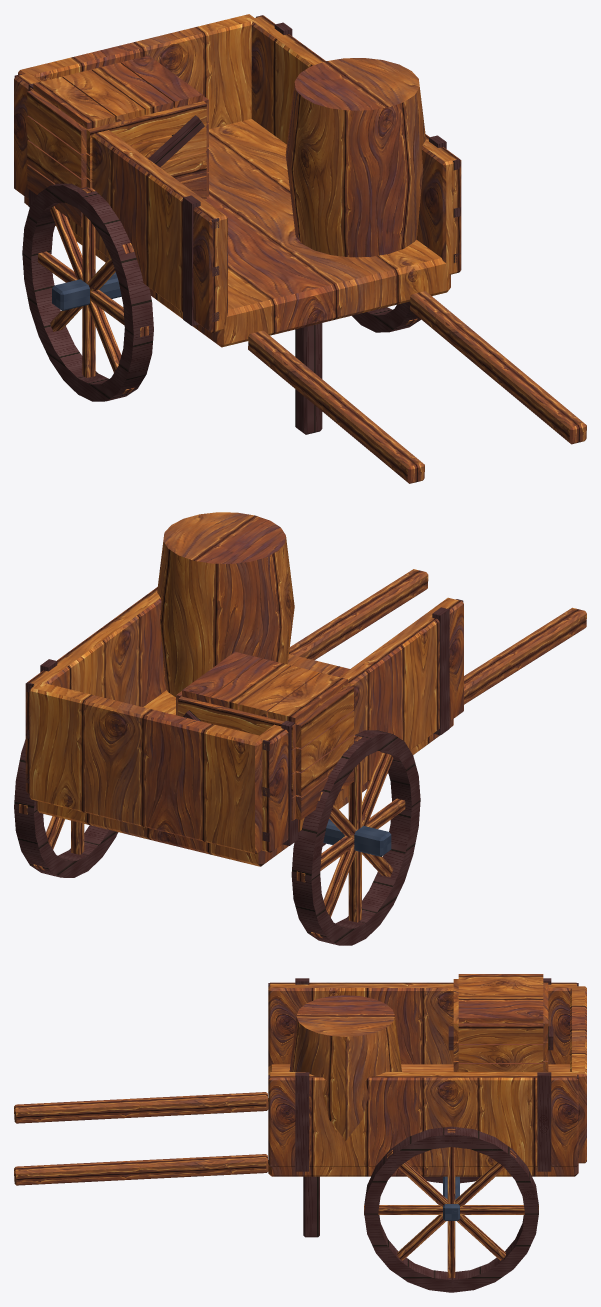
The model's file is Handcart.fbx.
The picture shows the model from 3 angles, top to bottom: view 1: azimuth 30°, elevation 25°; view 2: azimuth 150°, elevation 25°; view 3: azimuth 270°, elevation 25°; orthographic projection. The views are drawn at different scales.
Visible parts, largest first — view 1: Wagon bed.001, Cargo barrel, Wagon left side.001, Wagon wheel.004, Wagon right side.001, Wagon tail.001, Draw shaft.002, Draw shaft.003, Crate long side board.030, Cart resting prop, Crate lid board.004, Wheel spoke.017 (+16 smaller); view 2: Wagon tail.001, Cargo barrel, Wagon left side.001, Wagon wheel.004, Wagon right side.001, Wagon bed.001, Wagon wheel.005, Draw shaft.003, Draw shaft.002, Crate long side board.031, Crate lid board.004, Wheel spoke.019 (+13 smaller); view 3: Wagon right side.001, Wagon left side.001, Cargo barrel, Wagon wheel.005, Draw shaft.002, Draw shaft.003, Wagon bed.001, Wagon tail.001, Crate short side board.031, Crate short side board.029, Wagon side stake.006, Wagon side stake.007 (+11 smaller).
Part boxes in pixels (x1=…): Wagon bed.001: x1=24, y1=119, x2=450, y2=347; Cargo barrel: x1=285, y1=58, x2=425, y2=257; Wagon left side.001: x1=14, y1=72, x2=227, y2=332; Wagon wheel.004: x1=22, y1=183, x2=153, y2=401; Wagon right side.001: x1=250, y1=15, x2=461, y2=274; Wagon tail.001: x1=18, y1=14, x2=256, y2=128; Draw shaft.002: x1=248, y1=330, x2=424, y2=483; Draw shaft.003: x1=410, y1=291, x2=586, y2=444; Crate long side board.030: x1=84, y1=101, x2=206, y2=154; Cart resting prop: x1=295, y1=323, x2=322, y2=434; Crate lid board.004: x1=33, y1=77, x2=115, y2=129; Wheel spoke.017: x1=50, y1=206, x2=134, y2=393; Wagon tail.001: x1=29, y1=682, x2=262, y2=854; Cargo barrel: x1=157, y1=512, x2=294, y2=696; Wagon left side.001: x1=257, y1=597, x2=463, y2=852; Wagon wheel.004: x1=291, y1=730, x2=420, y2=945; Wagon right side.001: x1=25, y1=587, x2=166, y2=793; Wagon bed.001: x1=36, y1=654, x2=453, y2=866; Wagon wheel.005: x1=14, y1=739, x2=118, y2=877; Draw shaft.003: x1=289, y1=569, x2=428, y2=660; Draw shaft.002: x1=464, y1=607, x2=586, y2=704; Crate long side board.031: x1=178, y1=696, x2=298, y2=749; Crate lid board.004: x1=268, y1=672, x2=347, y2=723; Wheel spoke.019: x1=311, y1=752, x2=393, y2=938; Wagon right side.001: x1=268, y1=1072, x2=578, y2=1166; Wagon left side.001: x1=268, y1=982, x2=576, y2=1066; Cargo barrel: x1=289, y1=995, x2=401, y2=1140; Wagon wheel.005: x1=364, y1=1126, x2=538, y2=1292; Draw shaft.002: x1=14, y1=1092, x2=268, y2=1123; Draw shaft.003: x1=14, y1=1154, x2=268, y2=1185; Wagon bed.001: x1=268, y1=1064, x2=578, y2=1176; Wagon tail.001: x1=570, y1=986, x2=586, y2=1163; Crate short side board.031: x1=458, y1=1023, x2=543, y2=1043; Crate short side board.029: x1=458, y1=1044, x2=543, y2=1062; Wagon side stake.006: x1=295, y1=1072, x2=309, y2=1171; Wagon side stake.007: x1=537, y1=1072, x2=551, y2=1171.
Size of the model in its own units: 210 by 192 by 406.
